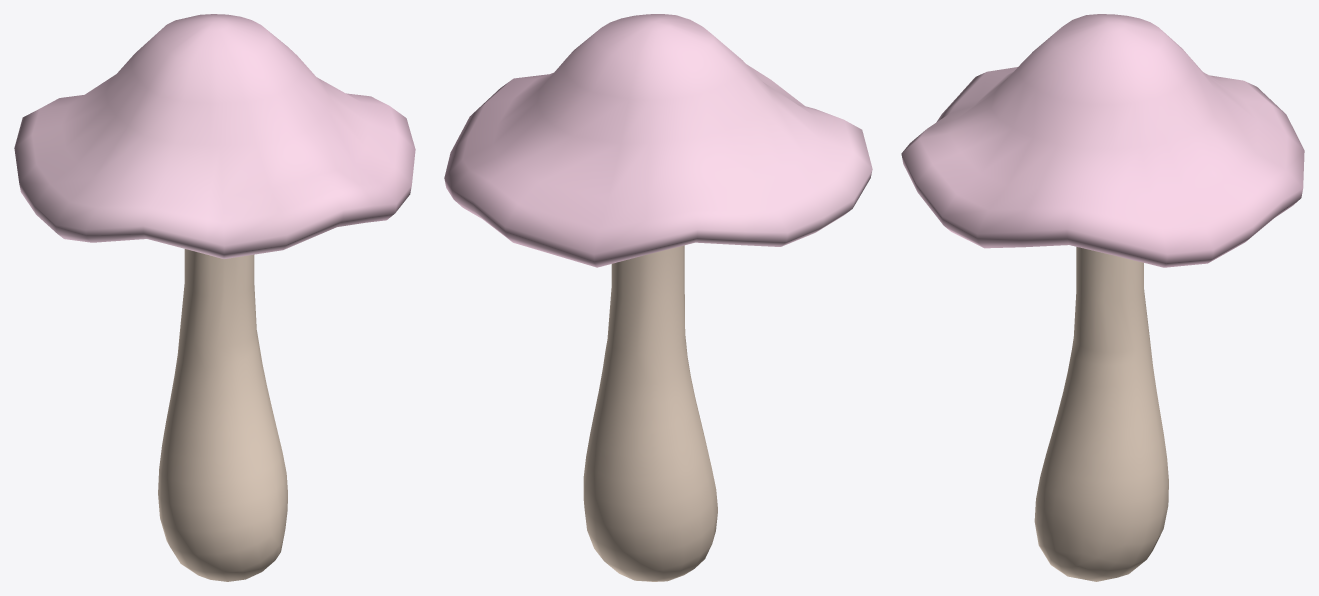
Rendered from mushroom 05.fbx.
3 renders of one model, left to right at view 1: azimuth 30°, elevation 25°; view 2: azimuth 150°, elevation 25°; view 3: azimuth 270°, elevation 25°, orthographic. The views are drawn at different scales.
Visible parts, largest first — view 1: Mushroom_0001_0005; view 2: Mushroom_0001_0005; view 3: Mushroom_0001_0005.
Boxes of the visible parts, x1=… form: Mushroom_0001_0005: x1=14, y1=14, x2=415, y2=581; Mushroom_0001_0005: x1=444, y1=14, x2=872, y2=581; Mushroom_0001_0005: x1=901, y1=14, x2=1304, y2=581.
Size of the model in its own units: 18.17 by 26.93 by 17.94.
Materials: 1 (1 with a texture image).
